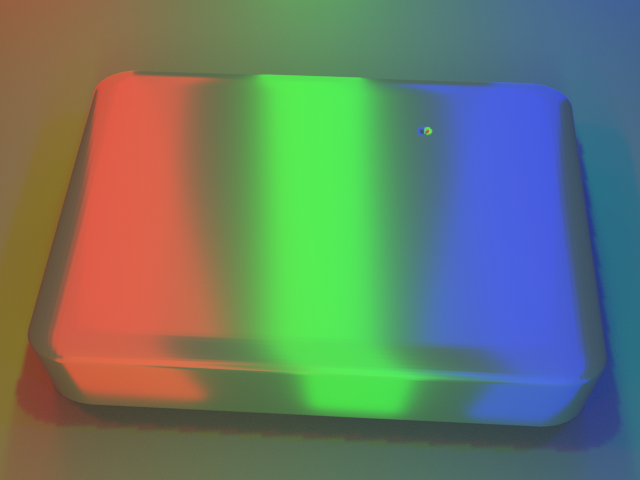dent: (417, 104, 451, 142)
